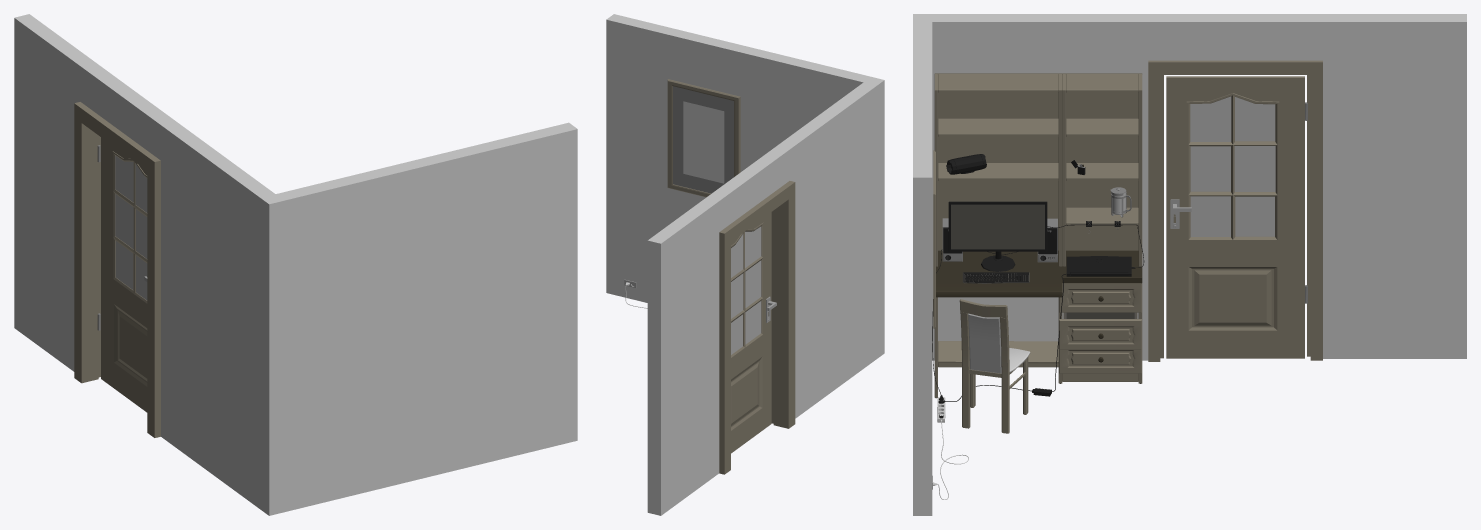
The picture shows the model from 3 angles, left to right: view 1: azimuth 30°, elevation 25°; view 2: azimuth 150°, elevation 25°; view 3: azimuth 270°, elevation 25°; orthographic projection. The views are drawn at different scales.
Parts seen in each view (by area): view 1: directionalLight3; view 2: directionalLight3; view 3: directionalLight3.
Boxes of the visible parts, box(x1,y1,x2,y2) form: directionalLight3: box(14, 14, 577, 515); directionalLight3: box(606, 14, 884, 515); directionalLight3: box(913, 14, 1466, 515).
Size of the model in its own units: 2.03 by 1.93 by 2.85.
